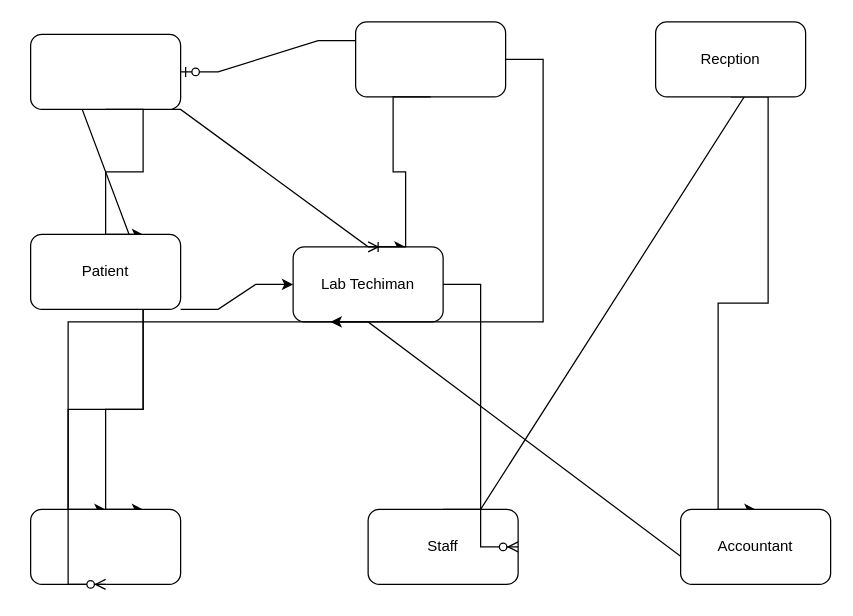
Some shapes in this 853 by 616 pixel diagram are drawn without their labels. Here are the shapes that lost their labels. From the top down, the box of each, then its label:
(29, 33, 181, 109): Doctor
(354, 21, 506, 97): Department
(29, 508, 181, 584): Nurse
